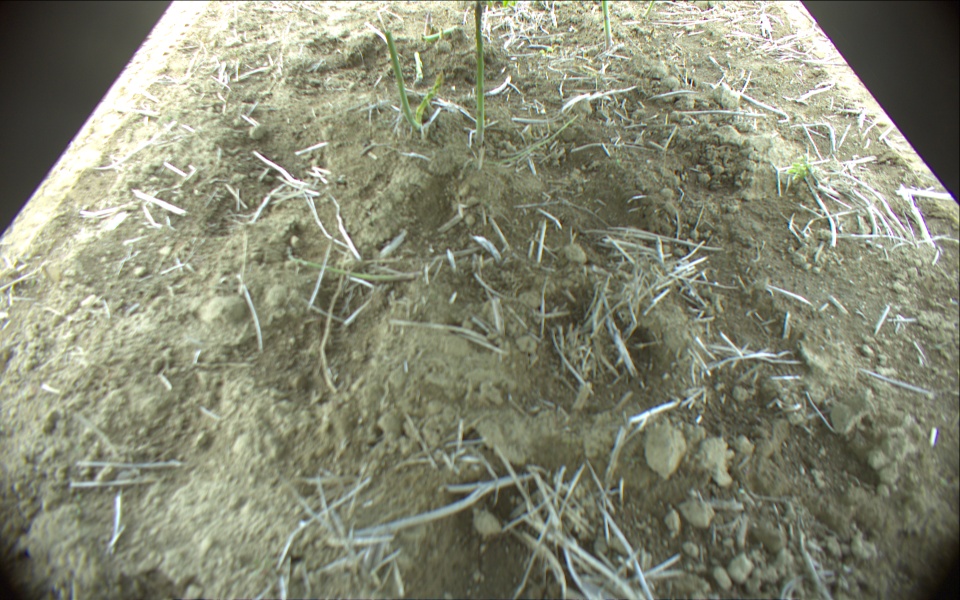aspa: (381, 26, 420, 129), (288, 256, 417, 282), (471, 1, 485, 146), (416, 71, 445, 126), (601, 1, 612, 46), (642, 1, 654, 18), (426, 13, 433, 40)
